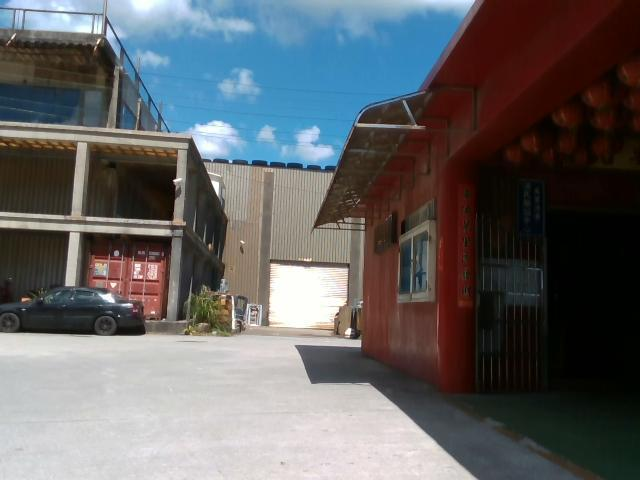pollute: (206, 279, 264, 336), (333, 297, 361, 340)
